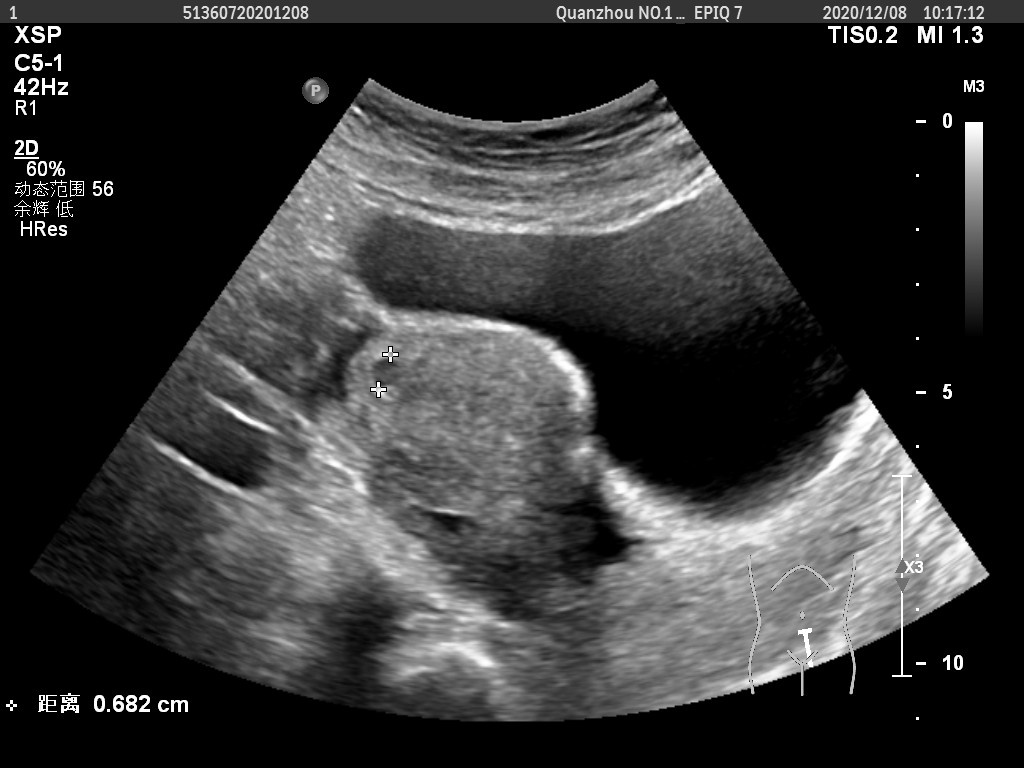肌瘤: (371, 355, 399, 388)
